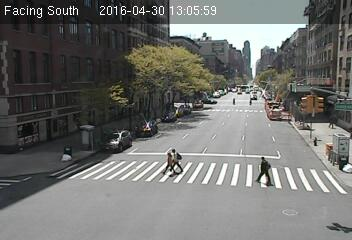neg: (230, 118, 250, 144), (46, 136, 64, 161), (156, 61, 174, 85), (243, 54, 260, 77), (331, 210, 348, 233), (12, 150, 27, 171), (203, 95, 217, 114), (67, 108, 81, 127), (307, 52, 321, 70), (89, 137, 103, 154), (149, 102, 162, 120), (58, 199, 71, 217), (190, 78, 202, 95), (266, 85, 278, 100)
pos: (252, 154, 276, 186), (166, 148, 185, 173), (160, 151, 179, 176), (327, 111, 342, 130), (230, 95, 239, 106), (249, 96, 256, 105)
